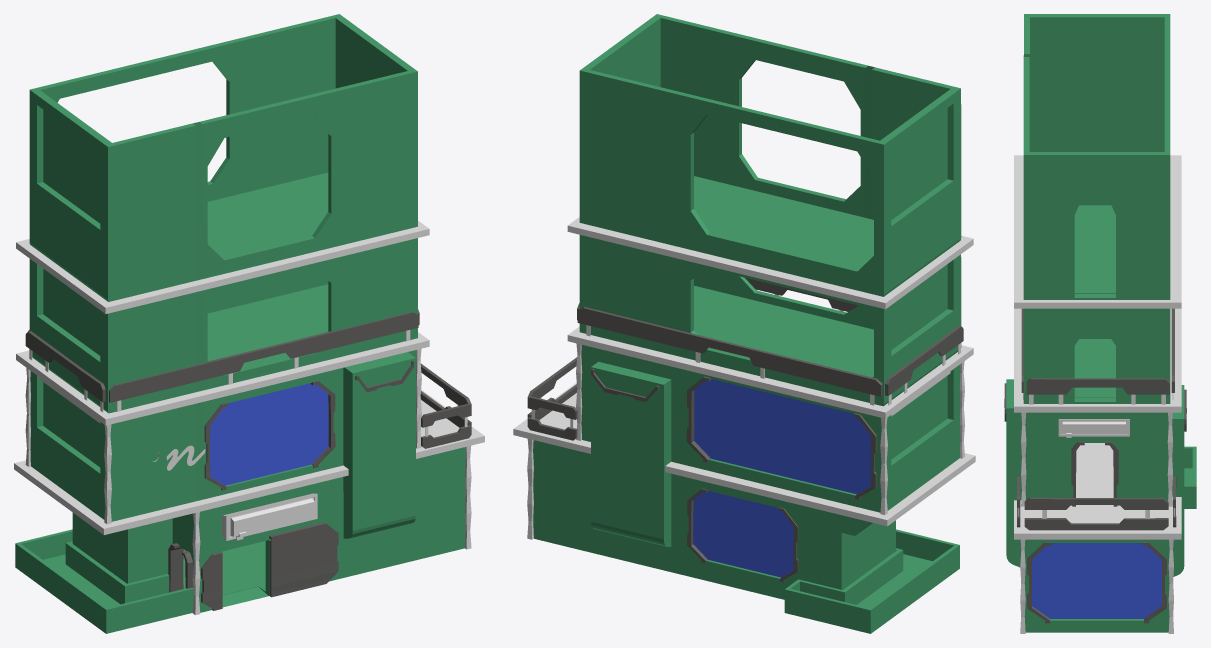
Rendered from 3pisos.glb.
3 views of the same model, side by side, from view 1: azimuth 30°, elevation 25°; view 2: azimuth 150°, elevation 25°; view 3: azimuth 270°, elevation 25° (orthographic). The views are drawn at different scales.
Visible parts, largest first — view 1: Piso 2.002, Piso 2.001, Piso1, Piso 2, Panel1, Cube.079, Pasillo, Cube.007, Techo 2.001, Cube.014, Techo 2, Cube.105 (+8 smaller); view 2: Piso 2.002, Piso 2.001, Piso1, Piso 2, Cube.080, Panel 2, Pasillo, Cube.084, Cube.007, Techo 2.001, Techo 2, Cube.058 (+5 smaller); view 3: Piso 2.002, Piso 2.001, Cube.081, Piso 2, Cube.007, Techo 2.001, Piso1, Techo 2, Panel1, Cube.063, Panel 2, Cube.040 (+12 smaller).
Boxes of the visible parts, bbox=[...] form: Piso 2.002: bbox=[29, 14, 417, 301]; Piso 2.001: bbox=[29, 238, 417, 413]; Piso1: bbox=[72, 447, 465, 612]; Piso 2: bbox=[30, 350, 416, 521]; Panel1: bbox=[343, 352, 415, 538]; Cube.079: bbox=[210, 383, 328, 485]; Pasillo: bbox=[15, 529, 193, 633]; Cube.007: bbox=[14, 389, 484, 534]; Techo 2.001: bbox=[16, 220, 429, 313]; Cube.014: bbox=[109, 312, 418, 402]; Techo 2: bbox=[16, 332, 429, 425]; Cube.105: bbox=[269, 522, 338, 597]; Piso 2.002: bbox=[579, 14, 961, 296]; Piso 2.001: bbox=[579, 235, 961, 406]; Piso1: bbox=[533, 440, 895, 599]; Piso 2: bbox=[581, 345, 960, 512]; Cube.080: bbox=[694, 379, 871, 494]; Panel 2: bbox=[591, 361, 671, 546]; Pasillo: bbox=[784, 529, 959, 633]; Cube.084: bbox=[693, 491, 793, 577]; Cube.007: bbox=[513, 383, 975, 526]; Techo 2.001: bbox=[567, 217, 973, 309]; Techo 2: bbox=[567, 326, 973, 418]; Cube.058: bbox=[577, 307, 882, 396]; Piso 2.002: bbox=[1023, 14, 1170, 299]; Piso 2.001: bbox=[1023, 308, 1170, 403]; Cube.081: bbox=[1032, 543, 1161, 618]; Piso 2: bbox=[1025, 412, 1168, 505]; Cube.007: bbox=[1014, 443, 1181, 539]; Techo 2.001: bbox=[1014, 155, 1181, 308]; Piso1: bbox=[1024, 539, 1169, 632]; Techo 2: bbox=[1014, 308, 1181, 412]; Panel1: bbox=[1006, 379, 1021, 567]; Cube.063: bbox=[1026, 378, 1169, 394]; Panel 2: bbox=[1172, 385, 1184, 576]; Cube.040: bbox=[1024, 518, 1168, 530].
Size of what is drawn, in the model's own units: 33.18 by 40.64 by 15.53.
